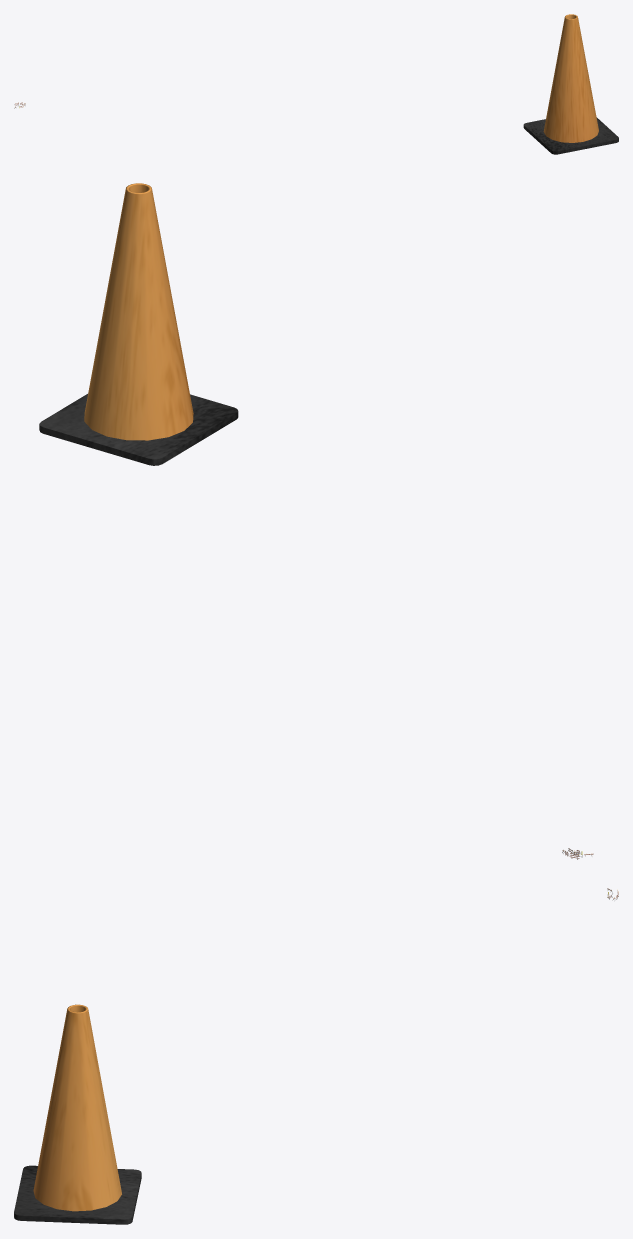
The model's file is barricade_set.glb.
3 views of the same model, one above another, from view 1: azimuth 30°, elevation 25°; view 2: azimuth 150°, elevation 25°; view 3: azimuth 270°, elevation 25° (orthographic). The views are drawn at different scales.
Parts seen in each view (by area): view 1: ConeBasic_lambert1_0; view 2: ConeBasic_lambert1_0; view 3: ConeBasic_lambert1_0.
Part boxes in pixels (box(x1,y1,x2,y2)): ConeBasic_lambert1_0: box(523, 14, 618, 154); ConeBasic_lambert1_0: box(39, 183, 238, 465); ConeBasic_lambert1_0: box(14, 1004, 141, 1224).
Size of the model in its own units: 260 by 68.51 by 199.
Materials: 1 (1 with a texture image).
